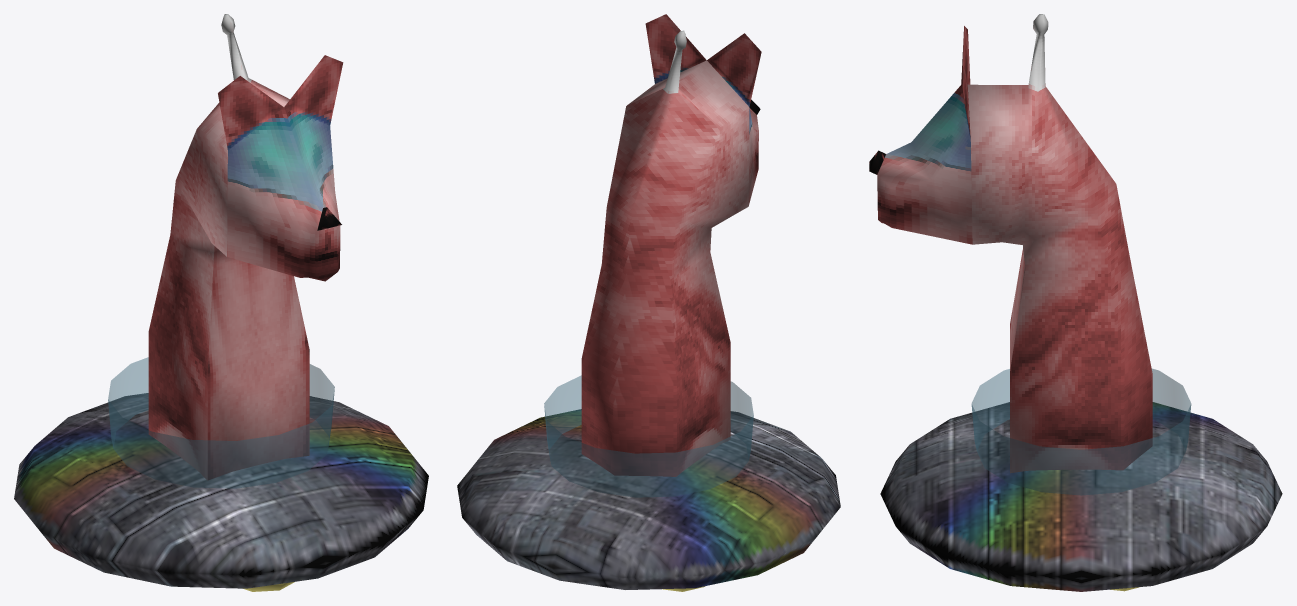
File: Dog Alien.fbx
3 renders of one model, left to right at view 1: azimuth 30°, elevation 25°; view 2: azimuth 150°, elevation 25°; view 3: azimuth 270°, elevation 25°, orthographic. The views are drawn at different scales.
Parts seen in each view (by area): view 1: Sphere.001; view 2: Sphere.001; view 3: Sphere.001.
Part boxes in pixels (x1,y1,x2,y2): Sphere.001: (14, 14, 428, 591); Sphere.001: (457, 14, 840, 591); Sphere.001: (869, 14, 1282, 591).
Size of the model in its own units: 200 by 295 by 205.
Materials: 4 (2 with a texture image).
